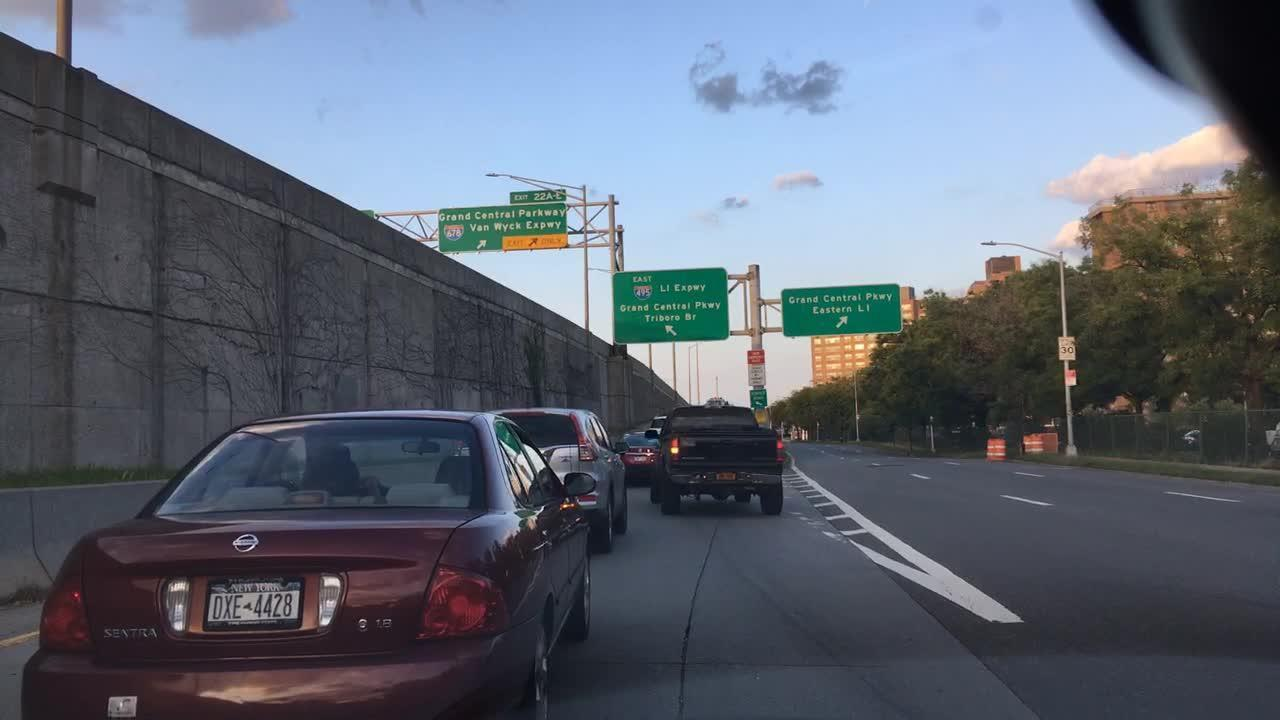Nissan: (218, 528, 269, 560)
